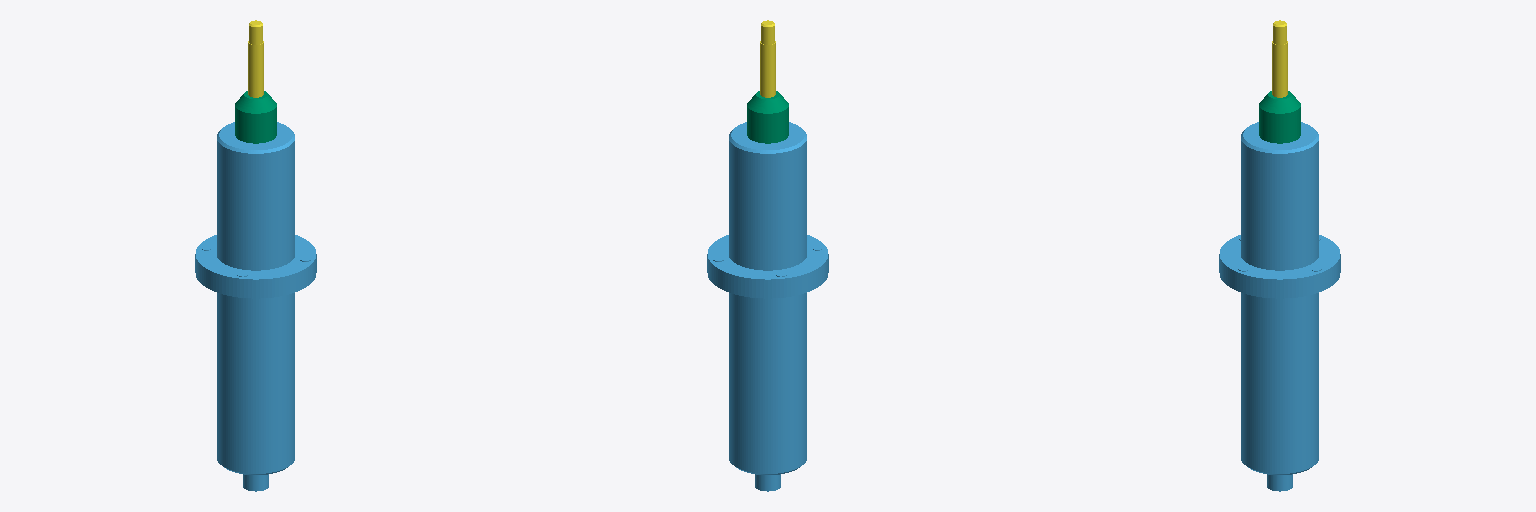
robot.urdf — spindle_emsf3060:
<?xml version="1.0"?>
<!--
  Motor Spindle V1: ロボット切削用モータスピンドルの自作アセット (CC0-1.0)。
  カタログに tool.spindle のモデルが 1 つも無かったのを埋めるために著作した。

  ============================================================================
  参照実機: **ナカニシ EMSF-3060K** (フランジ付きモータスピンドル、E3000 シリーズ)
    シリーズページ: https://nakanishi-spindle.com/hpms/e3000/
    寸法出典: E3000 カタログ p.2-43 (EMSF-3060K 寸法図。CAD データ DXF/STEP は
    WEB 配布ありだが要登録のため、公表寸法図から起こした)
  ============================================================================

  **これは EMSF-3060K の複製ではない。** 参照実機からは**公表されている数値だけ**を
  採り、細部の意匠 (面取り・ナット先端形状・穴配置角・フランジ輪郭) は独自著作。

  参照実機から採った値 (カタログ p.2-43 の公表値):
    - 胴 **ø30 x 136.3 mm** / 後端コード付け根 11 mm (全長 153.2 = 136.3 + ナット 16.9)
    - フランジ: 厚さ **8 mm**、取り付け穴 **4-ø4.2 貫通 / ボルト円 ø39**
      (固定は六角穴付ボルト M4x16 x 4 本 — 標準付属)
    - フランジ前面 -> 胴前端面 **50 mm** (クランプ不可区間) / フランジ後方の胴
      **50.5 + 27.8 mm** (クランプ不可区間 + 後部)
    - コレットナット (K-265 標準装備): **ø15.9 x 16.9 mm** (円筒部 12.5)
    - 最高回転速度 **60,000 min^-1** / 最大出力 **350 W** / 振れ精度 **1 um 以内**
    - コレット **CHK グループ ø0.5〜6.35 mm** / 工具入れ込み長さ最大 **46.4 mm**
    - 質量 **620 g** (コレットナット込み)

  参照実機から**意図的に変えた点**:
    - **カッタ (ø6 x 突き出し 30 mm) は当方の設計** (実機は工具別売。CHK コレットの
      把持範囲 ø0.5〜6.35 に収まる ø6 スクエアエンドミル想定、質量 +20 g)
    - フランジ輪郭は実機の角丸 43x33 (R23) を **ø46 円板に簡略**。穴配置角 35° も
      45° 対称に簡略 (ボルト円 ø39 と穴径 4.2 は実機どおり)
    - ジョイントコード (0.3 m) とホルダ (取付治具) は非モデル

  座標系 (botrail カタログ規約): Z-up / メートル。root リンク mount = **フランジ前面**
  (実機の取付規約どおり「胴をホルダに挿入しフランジ後面から M4 ボルト 4 本で固定」する
  際にホルダ後端面が当たる面)。+Z がツール側。
  **胴はフランジより後ろ (-Z) へ 97.3 mm 突き出す** — ブラケット/ホルダ設計は
  この逃げが前提 (同軸のフランジプレート 1 枚ではロボットフランジと干渉する)。

  フレーム規約:
    - mount = root。tip = カッタ先端 (mount から +96.9 mm)
    - **tip は X 軸半回転で反転**してあり、tip の +Z は「先端 -> 工具本体」方向
      (= mount の -Z)。botrail の PathTarget.tool_axis 規約と 5-DOF 軸整列 IK の前提
    - tcp = tip (カタログの tcp 既定)

  リンク分割: body / collet / cutter の 3 リンク固定チェーン。カッタは
  allow_link_obstacle_contact(cutter, stock) の免除対象になるため**単独リンク**とし、
  collision は実半径 ø6 の細円柱 1 本のみ (VHACD 非経由のプリミティブ著作)。

  visual: tools/generate_meshes.py が生成する ../meshes/{body,collet,cutter}.stl
  collision: URDF プリミティブのみ (胴 + フランジ + コード付け根 / ナット / カッタ)

  質量配分: 実機 620 g (ナット込み) を body 590 g + collet 30 g に配分し、
  カッタ 20 g (当方設計分) を加算。慣性は円柱近似
-->
<robot name="spindle_emsf3060">

  <link name="mount"/>

  <link name="body">
    <visual>
      <geometry>
        <mesh filename="../meshes/body.stl"/>
      </geometry>
    </visual>
    <collision><!-- 胴 ø30 (z -86.3..50) -->
      <origin xyz="0 0 -0.01815"/>
      <geometry><cylinder radius="0.015" length="0.1363"/></geometry>
    </collision>
    <collision><!-- フランジ ø46 x 8 (z -8..0) -->
      <origin xyz="0 0 -0.004"/>
      <geometry><cylinder radius="0.023" length="0.008"/></geometry>
    </collision>
    <collision><!-- 後端コード付け根 ø10 x 11 (z -97.3..-86.3) -->
      <origin xyz="0 0 -0.0918"/>
      <geometry><cylinder radius="0.005" length="0.011"/></geometry>
    </collision>
    <inertial>
      <origin xyz="0 0 -0.0182"/>
      <mass value="0.59"/>
      <inertia ixx="9.47e-04" iyy="9.47e-04" izz="6.64e-05" ixy="0" ixz="0" iyz="0"/>
    </inertial>
  </link>
  <joint name="mount_to_body" type="fixed">
    <parent link="mount"/>
    <child link="body"/>
  </joint>

  <link name="collet">
    <visual>
      <geometry>
        <mesh filename="../meshes/collet.stl"/>
      </geometry>
    </visual>
    <collision><!-- コレットナット ø15.9 x 16.9 (z 50..66.9) -->
      <origin xyz="0 0 0.05845"/>
      <geometry><cylinder radius="0.00795" length="0.0169"/></geometry>
    </collision>
    <inertial>
      <origin xyz="0 0 0.0578"/>
      <mass value="0.03"/>
      <inertia ixx="1.2e-06" iyy="1.2e-06" izz="9.6e-07" ixy="0" ixz="0" iyz="0"/>
    </inertial>
  </link>
  <joint name="body_to_collet" type="fixed">
    <parent link="body"/>
    <child link="collet"/>
  </joint>

  <link name="cutter">
    <visual>
      <geometry>
        <mesh filename="../meshes/cutter.stl"/>
      </geometry>
    </visual>
    <collision><!-- カッタ実半径 ø6 の細円柱 (z 66.9..96.9)。stock との接触免除対象 -->
      <origin xyz="0 0 0.0819"/>
      <geometry><cylinder radius="0.003" length="0.030"/></geometry>
    </collision>
    <inertial>
      <origin xyz="0 0 0.0819"/>
      <mass value="0.02"/>
      <inertia ixx="1.6e-06" iyy="1.6e-06" izz="9.0e-08" ixy="0" ixz="0" iyz="0"/>
    </inertial>
  </link>
  <joint name="collet_to_cutter" type="fixed">
    <parent link="collet"/>
    <child link="cutter"/>
  </joint>

  <!-- tip: カッタ先端。X 軸半回転で +Z が「先端 -> 工具本体」方向 (mount の -Z) を向く -->
  <link name="tip"/>
  <joint name="cutter_to_tip" type="fixed">
    <origin xyz="0 0 0.0969" rpy="3.14159265358979 0 0"/>
    <parent link="cutter"/>
    <child link="tip"/>
  </joint>

</robot>

--- Facts derived from the render (not from the file) ---
Views: 3 orthographic renders of the robot side by side, from view 1: azimuth 30°, elevation 25°; view 2: azimuth 150°, elevation 25°; view 3: azimuth 270°, elevation 25°.
Model spindle_emsf3060 with 5 links and 4 joints (4 fixed), rooted at mount, posed every joint at zero.
Links seen in each view (by area): view 1: body, collet, cutter; view 2: body, collet, cutter; view 3: body, collet, cutter.
Boxes of the visible links, x1,y1,x2,y2 form: body: (195,122,316,491); collet: (235,91,276,143); cutter: (248,20,263,97); body: (707,122,828,491); collet: (747,91,788,143); cutter: (760,20,775,97); body: (1219,122,1340,491); collet: (1259,91,1300,143); cutter: (1272,20,1287,97).
Bounding box of the posed robot: 0.046 × 0.046 × 0.1942 m (x, y, z).
3 mesh visuals loaded from 3 distinct referenced files (3 binary STL).
